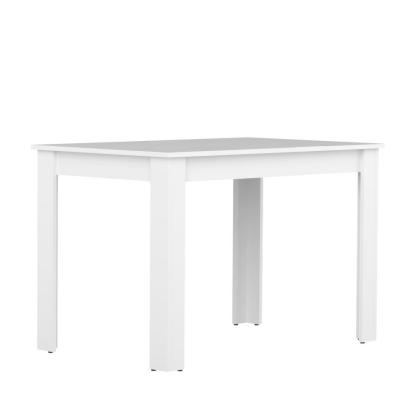table: (28, 137, 387, 366)
